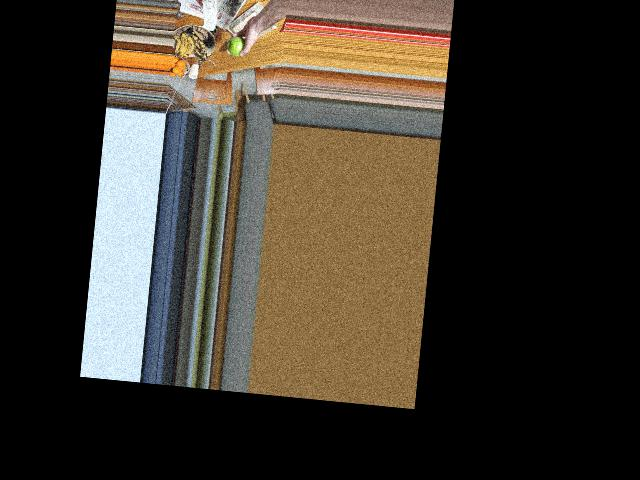apple: (225, 33, 249, 59)
